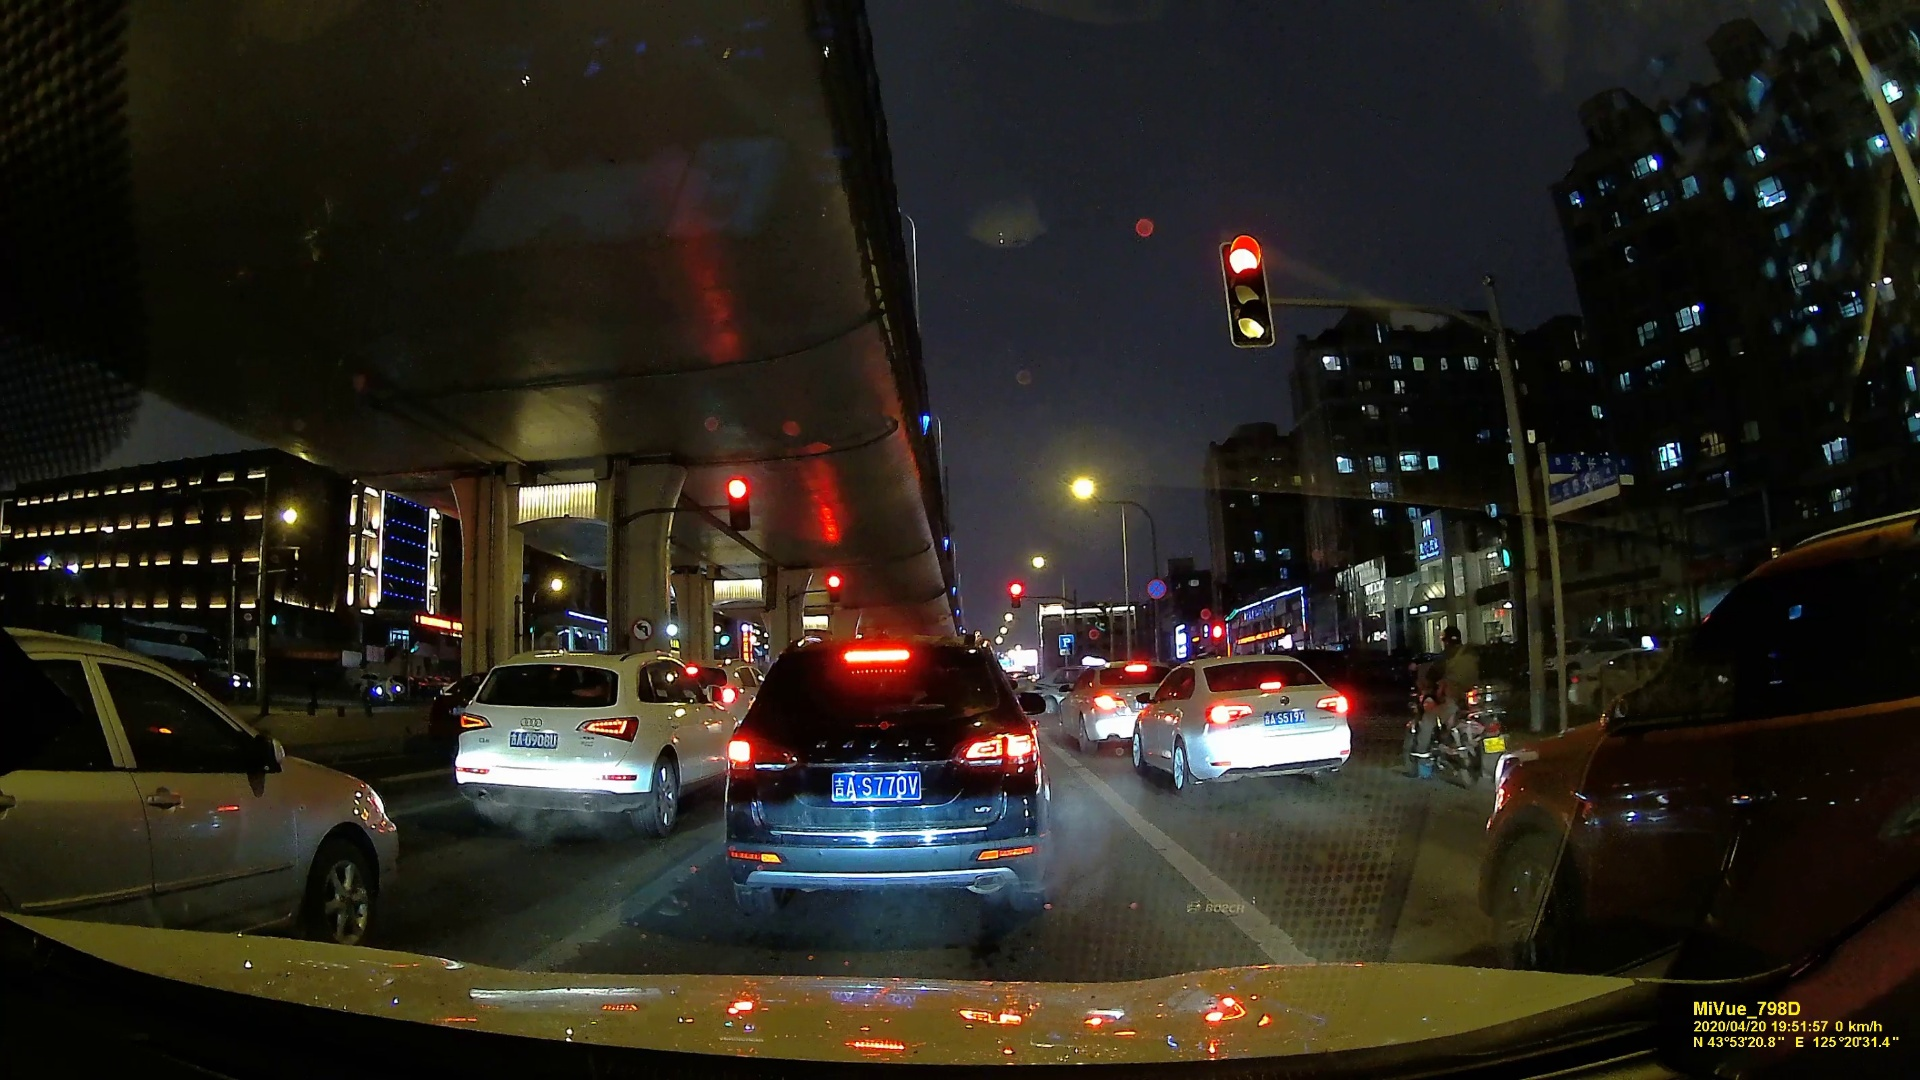traffic_sign: (1224, 233, 1278, 349), (1536, 458, 1625, 517), (1480, 495, 1522, 574), (723, 473, 749, 525), (1146, 578, 1170, 605), (630, 617, 654, 642), (825, 572, 844, 603), (1007, 582, 1025, 613)
vehicle: (1490, 542, 1915, 936), (1, 634, 401, 960), (728, 647, 1040, 918), (448, 649, 733, 833), (1130, 662, 1348, 793), (1063, 669, 1150, 749)
